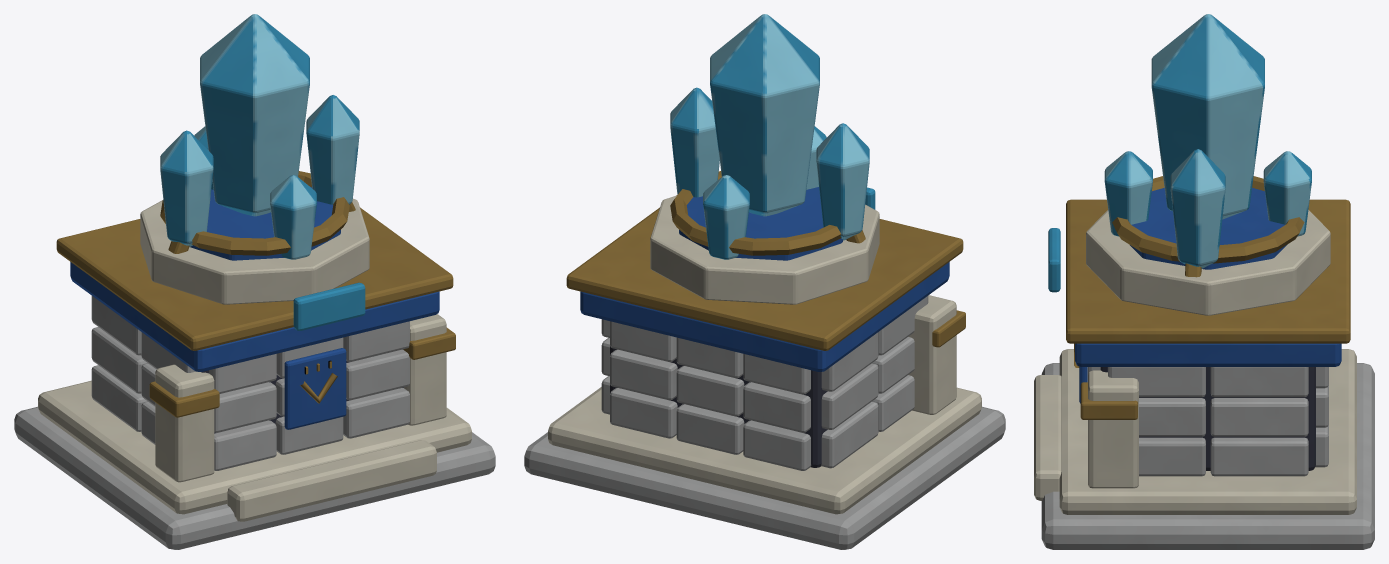
Rendered from frost_tower_medium.glb.
3 views of the same model, side by side, from view 1: azimuth 30°, elevation 25°; view 2: azimuth 150°, elevation 25°; view 3: azimuth 270°, elevation 25° (orthographic). The views are drawn at different scales.
Visible parts, largest first — view 1: frost_tower_medium_surface; view 2: frost_tower_medium_surface; view 3: frost_tower_medium_surface.
Boxes of the visible parts, x1=… form: frost_tower_medium_surface: x1=14, y1=14, x2=495, y2=549; frost_tower_medium_surface: x1=524, y1=14, x2=1005, y2=549; frost_tower_medium_surface: x1=1034, y1=14, x2=1374, y2=549.
Size of the model in its own units: 1.53 by 1.97 by 1.33.
Materials: 1 (1 with a texture image).
